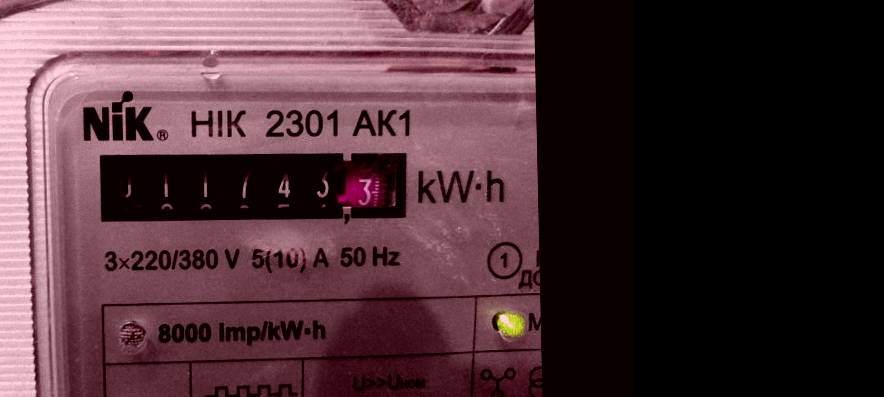0: (113, 165, 133, 202)
1: (196, 164, 212, 199), (159, 165, 170, 199)
3: (310, 165, 330, 200), (354, 176, 373, 209)
4: (273, 166, 291, 200)
7: (234, 166, 253, 200)
screen: (84, 136, 420, 237)
